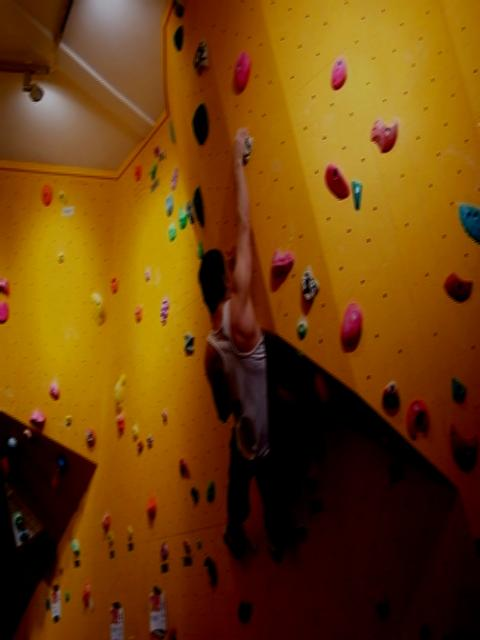crimp: (370, 118, 397, 150), (324, 168, 349, 196), (443, 274, 471, 299)
jib: (382, 381, 399, 408)
jug: (270, 248, 293, 276), (192, 103, 208, 143), (234, 50, 250, 90), (193, 36, 208, 72), (331, 55, 346, 86)
sloper: (340, 303, 361, 345)
